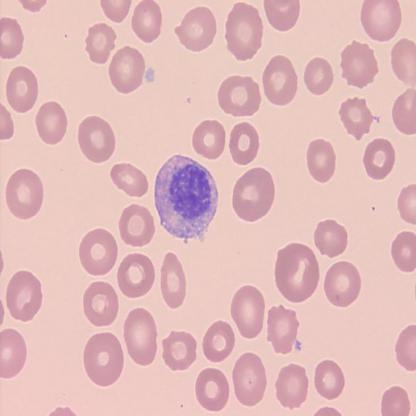Metamyelocyte: (151, 151, 221, 243)
